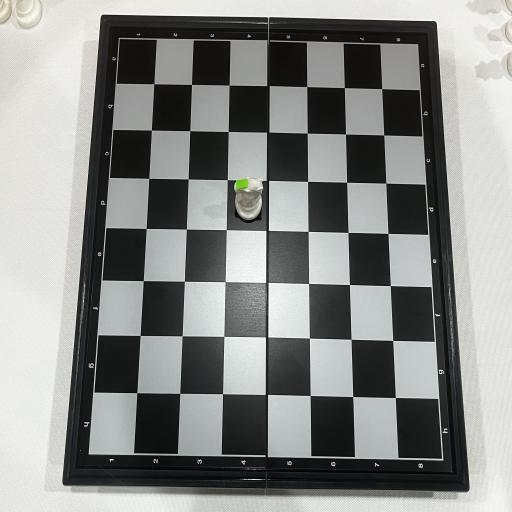White knight: (234, 177, 263, 220)
